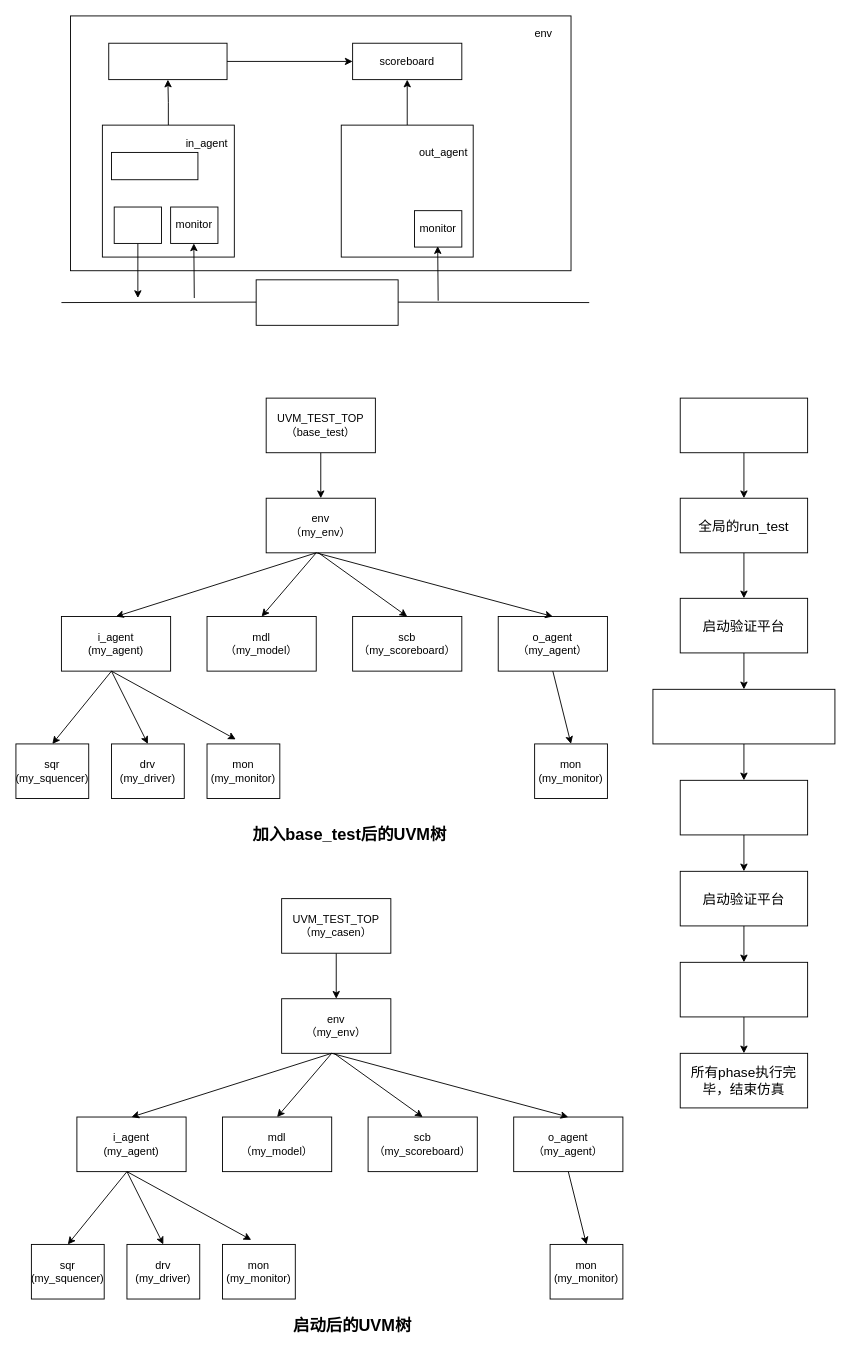
Some shapes in this 851 by 1352 pixel diagram are drawn without their labels. The shapes that lost their labels are listed below. From the top down, each one's box as (x1, y1, x2, y2) in pixels, then its label:
(108, 42, 227, 80): reference model
(111, 152, 198, 180): sequencer
(113, 206, 162, 243): driver
(255, 279, 398, 325): DUT
(679, 397, 808, 453): module top_db
(652, 688, 835, 744): 根据UVM TESTNAME产生my_case0的实例
(679, 779, 808, 835): 依次执行build_phase建立完整的UVM树
(679, 961, 808, 1017): 顺序执行UVM树各点的connect phase和main phase等
